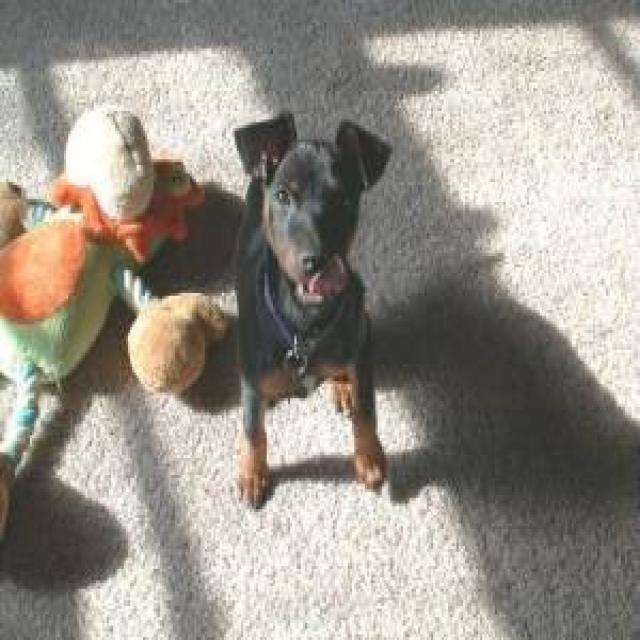dog-miniature_pinscher: (222, 114, 397, 515)
